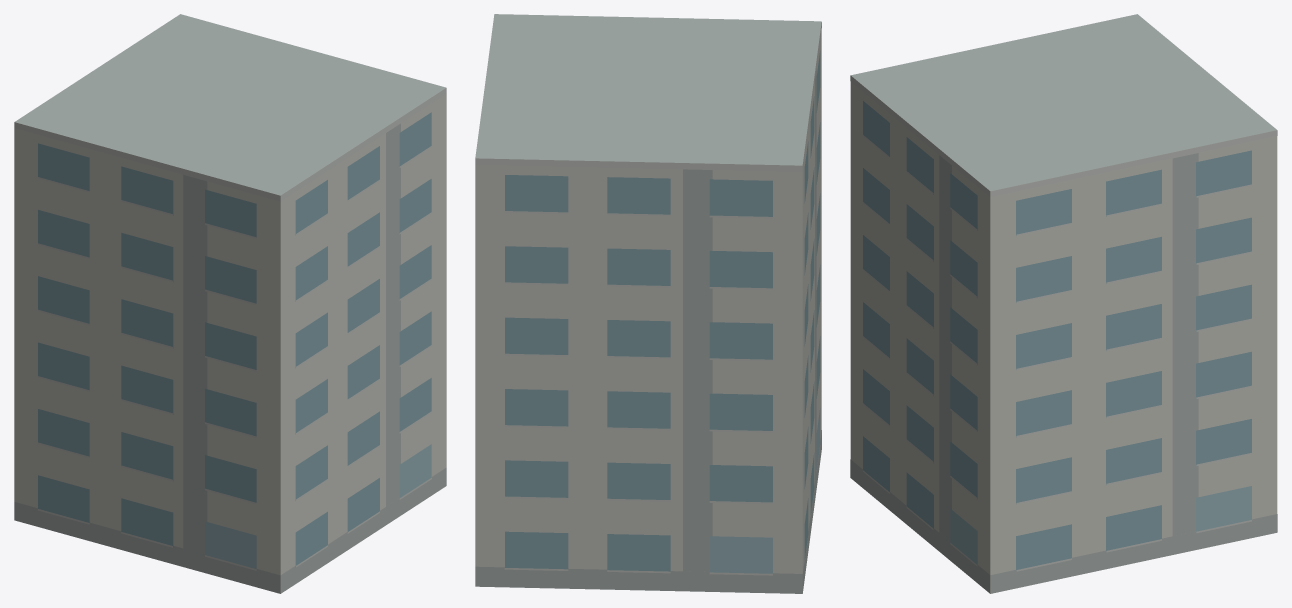
The model's file is survey-upis-32746504.glb.
3 views of the same model, side by side, from view 1: azimuth 30°, elevation 25°; view 2: azimuth 150°, elevation 25°; view 3: azimuth 270°, elevation 25° (orthographic). The views are drawn at different scales.
Parts seen in each view (by area): view 1: survey-upis-32746504.tmp; view 2: survey-upis-32746504.tmp; view 3: survey-upis-32746504.tmp.
Part boxes in pixels (x1,y1,x2,y2): survey-upis-32746504.tmp: (14, 14, 446, 593); survey-upis-32746504.tmp: (475, 14, 821, 593); survey-upis-32746504.tmp: (850, 14, 1277, 593).
Size of the model in its own units: 15.41 by 16.3 by 15.68.
